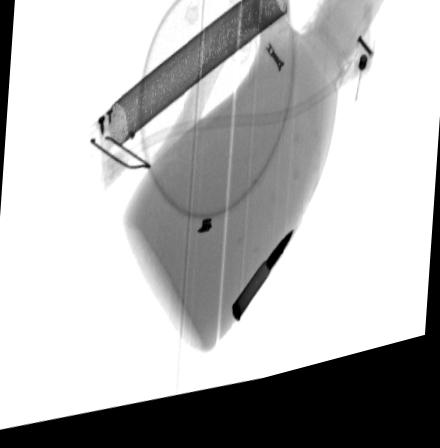Bullet: (231, 242, 297, 335)
